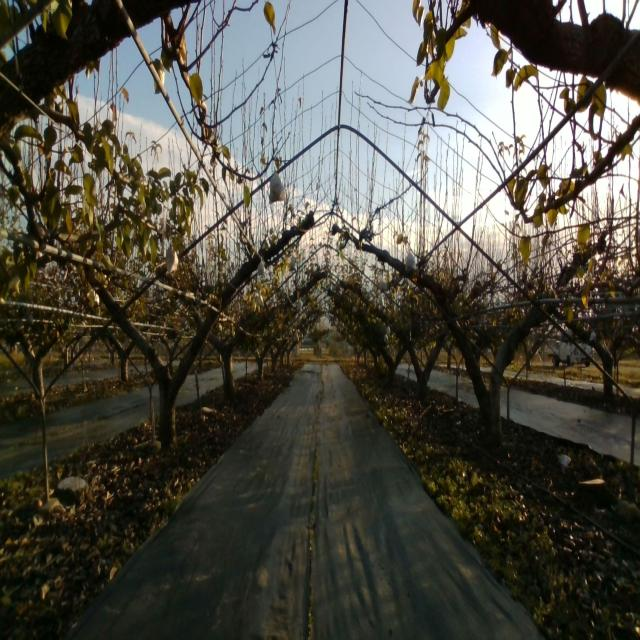pearbags: (268, 167, 286, 203), (165, 246, 178, 274), (404, 248, 417, 272)
